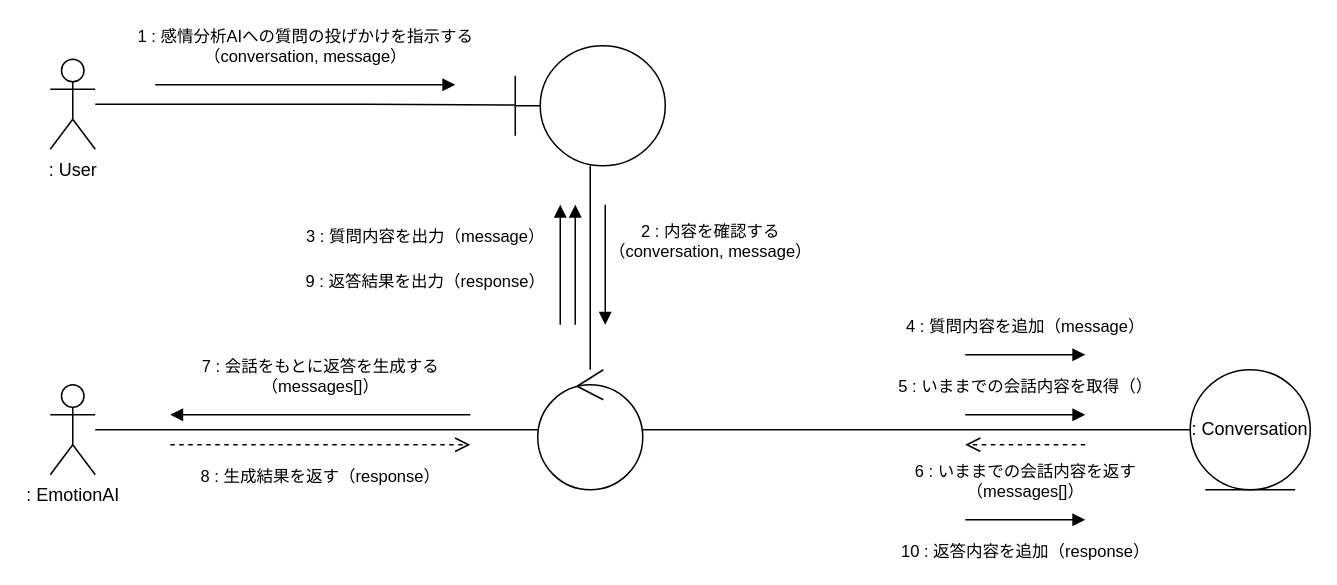
This 1337x585 diagram has some shape labels left out. Each missing label, with the centre of its shape:
: AIと会話を する画面: the point at 589,105
: 会話管理: the point at 589,429
